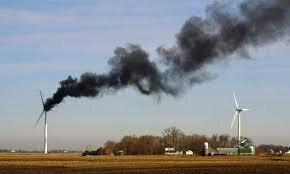faulty: (32, 82, 66, 135)
